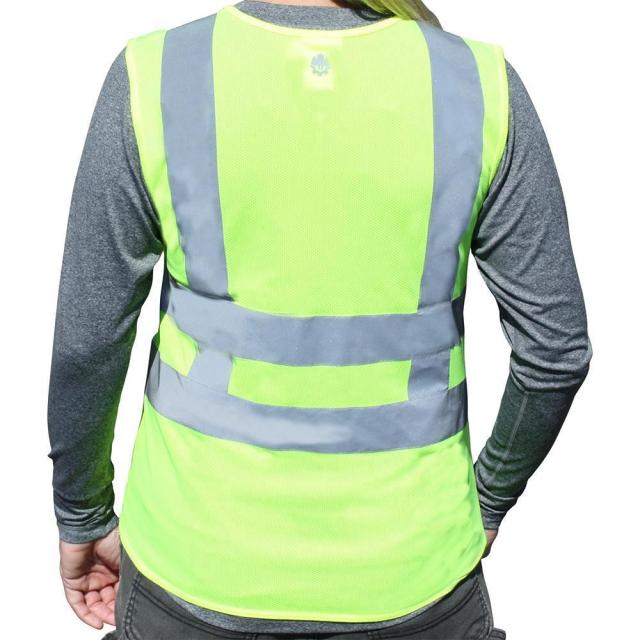Vest: (116, 9, 509, 624)
